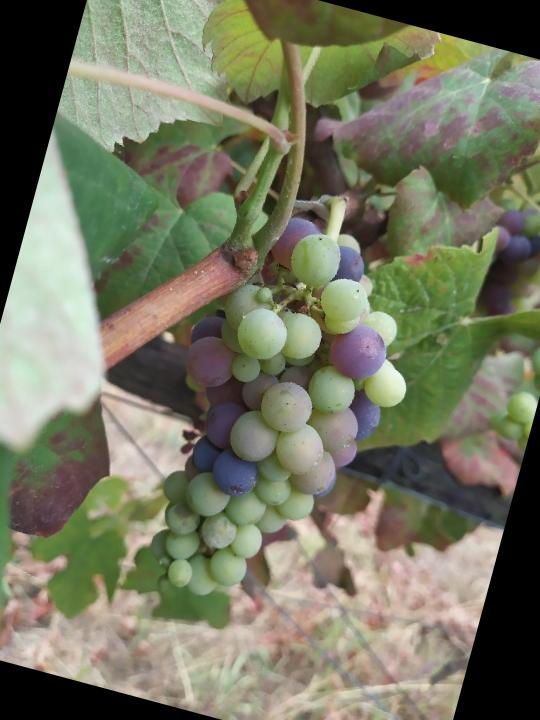grape: (123, 197, 447, 636)
